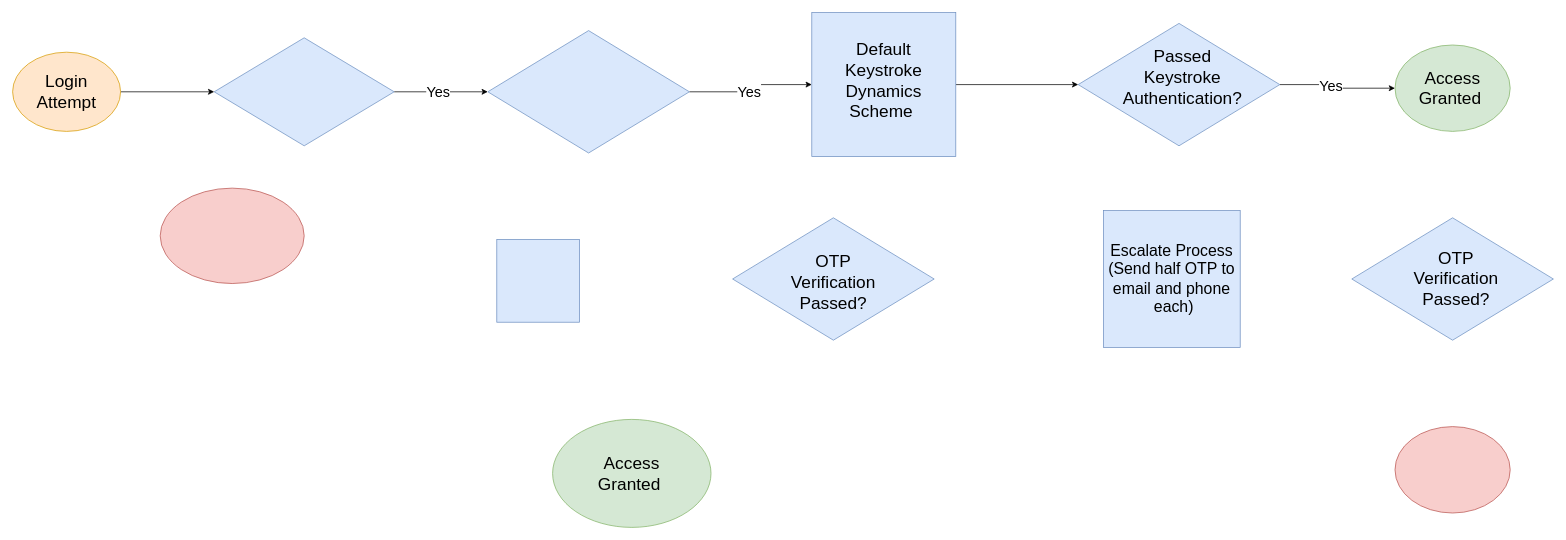
This 1566x540 diagram has some shape labels left out. Each missing label, with the box of its shape:
Access Denied: (1394, 426, 1510, 513)
Completed Enrollment Process?: (487, 30, 689, 153)
Credentials Verification Passed?: (213, 37, 394, 146)
Send OTP to Email: (496, 239, 580, 322)
